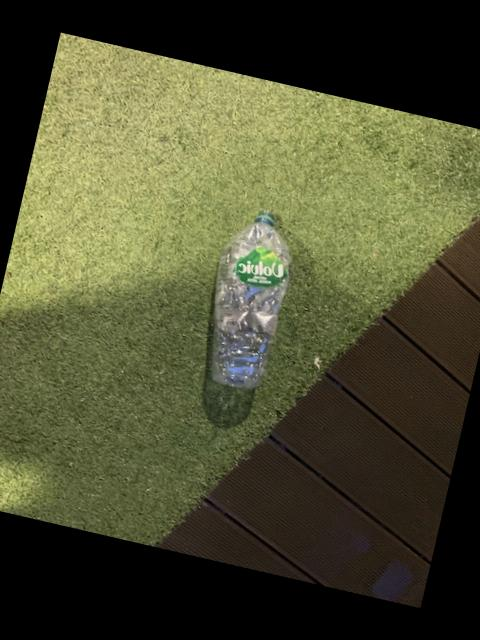plastic: (211, 214, 289, 388)
